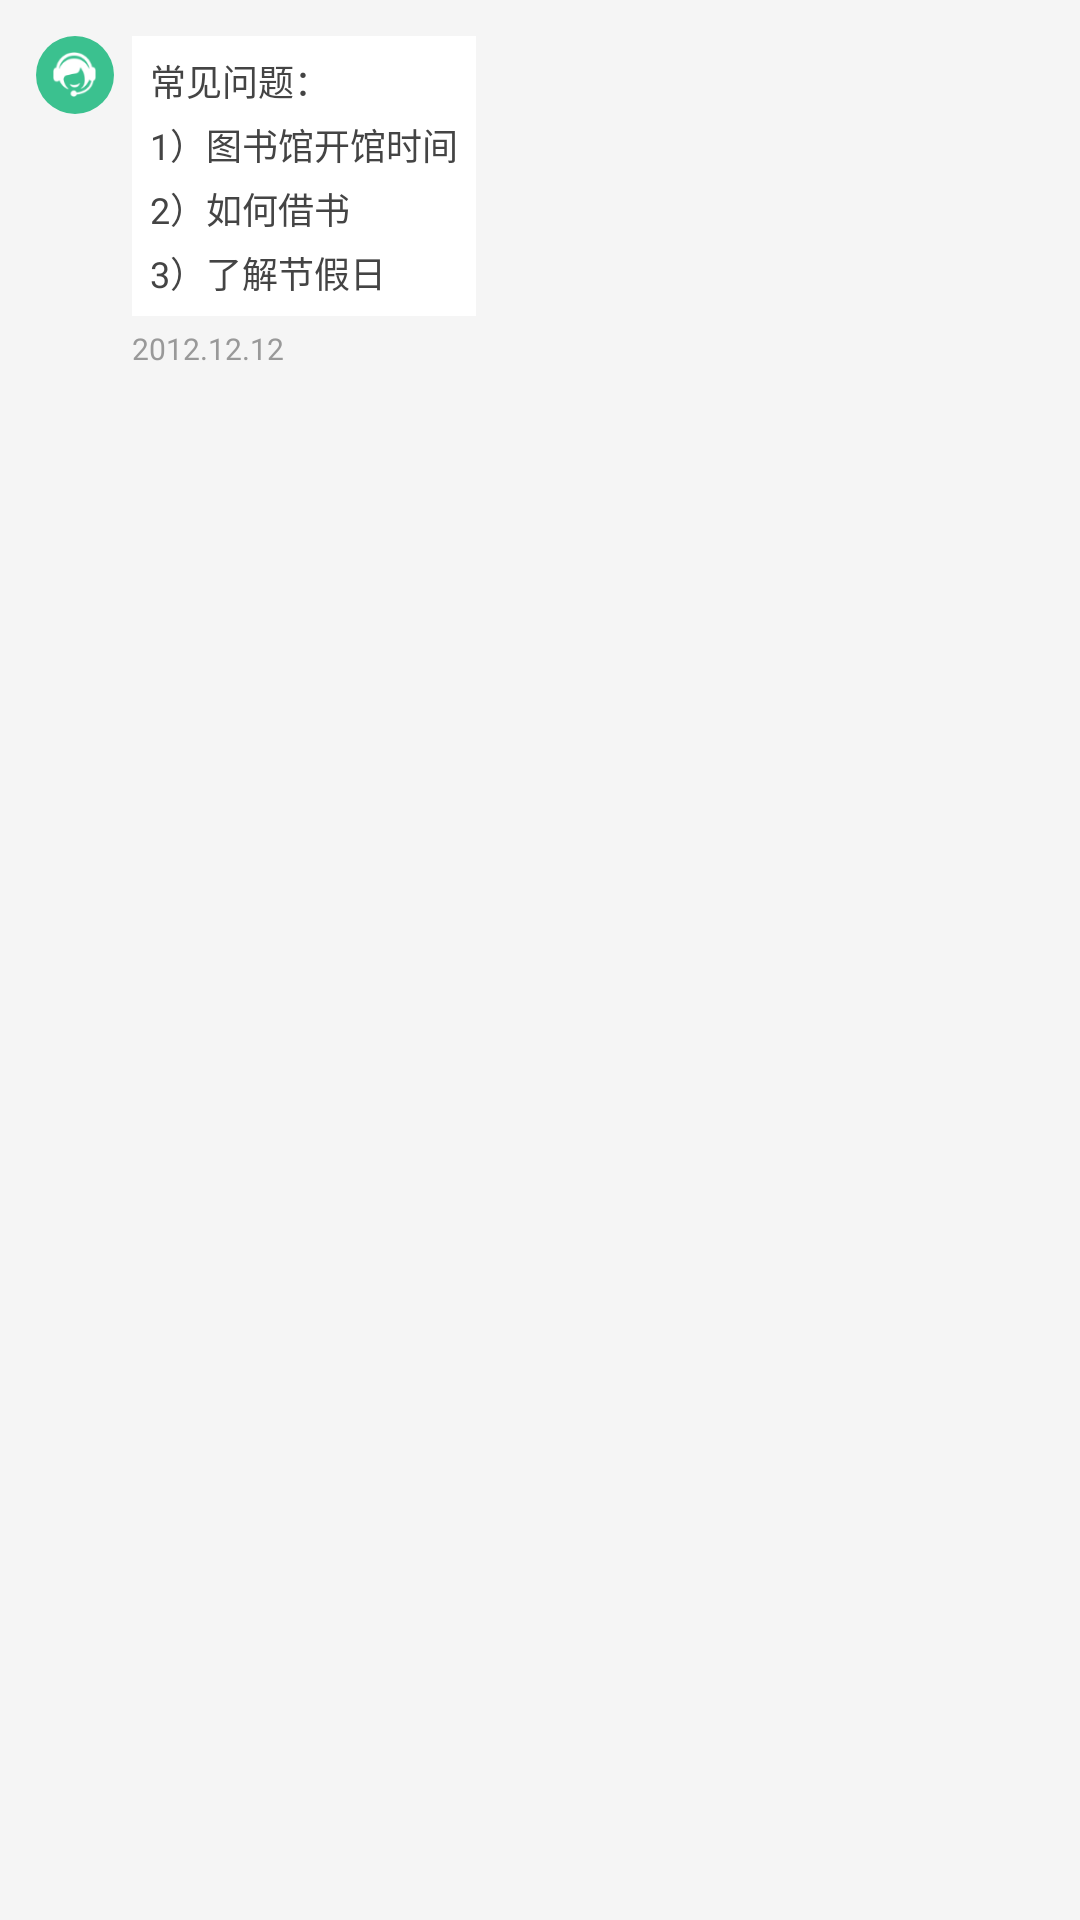

Point at icon controls on the screen. Image size 1080x1920, points as (x,y).
service: (74,74)
